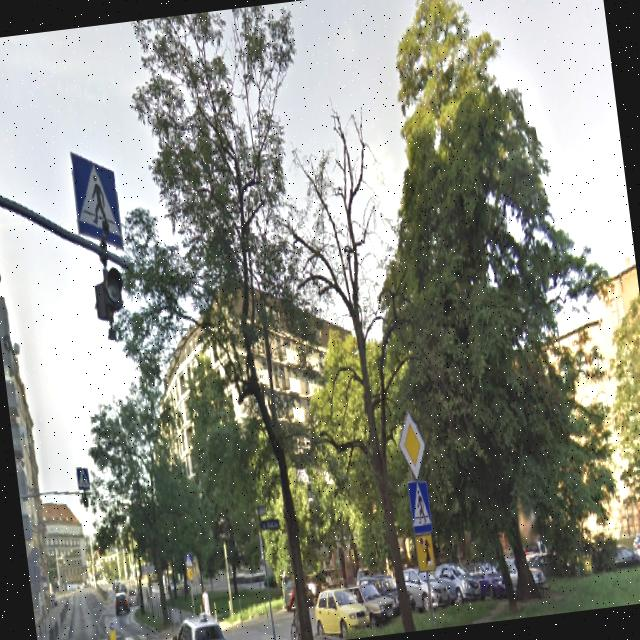Droga z pierwszenstwem: (394, 407, 427, 479)
Przejscie dla pieszych: (68, 152, 122, 248), (407, 478, 432, 536), (74, 464, 90, 494)
